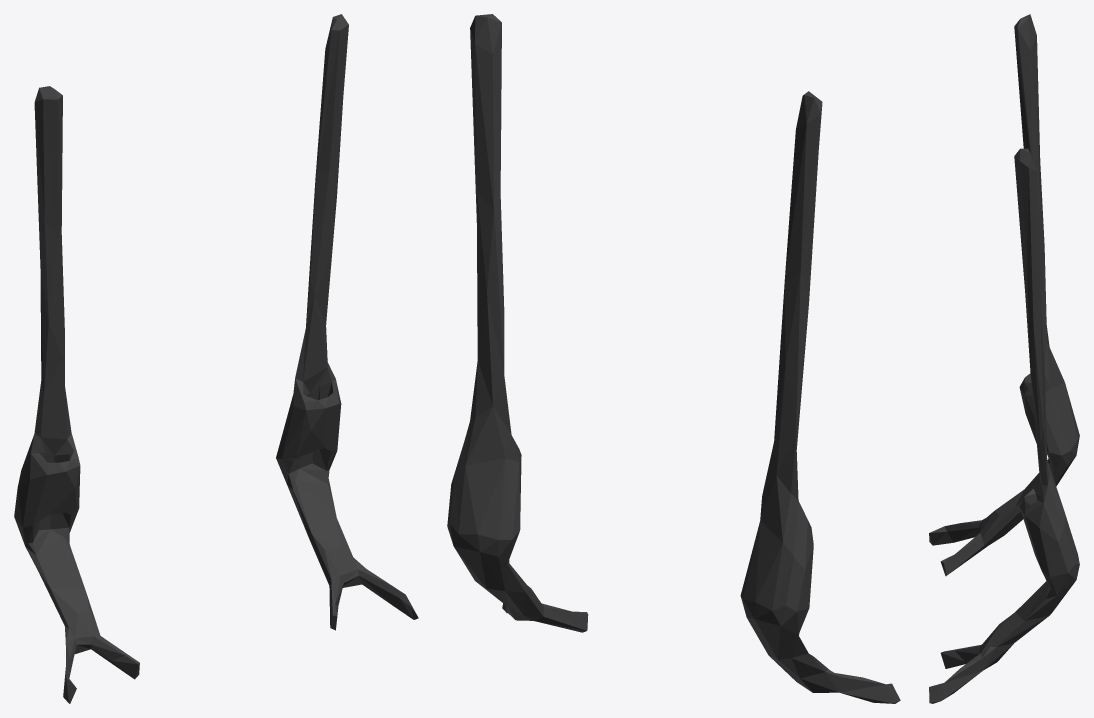
File: tendon_flexor_digitorum_superficialis_FL.glb
The picture shows the model from 3 angles, left to right: view 1: azimuth 30°, elevation 25°; view 2: azimuth 150°, elevation 25°; view 3: azimuth 270°, elevation 25°; orthographic projection. The views are drawn at different scales.
Parts seen in each view (by area): view 1: tendon_flexor_digitorum_superficialis_FL; view 2: tendon_flexor_digitorum_superficialis_FL; view 3: tendon_flexor_digitorum_superficialis_FL.
Boxes of the visible parts, bbox=[...] form: tendon_flexor_digitorum_superficialis_FL: bbox=[14, 14, 418, 703]; tendon_flexor_digitorum_superficialis_FL: bbox=[447, 14, 900, 703]; tendon_flexor_digitorum_superficialis_FL: bbox=[929, 14, 1079, 703].
Bounding box in the file's own units: 0.00421 × 0.0066 × 0.00167.
Materials: 1 (1 with a texture image).
